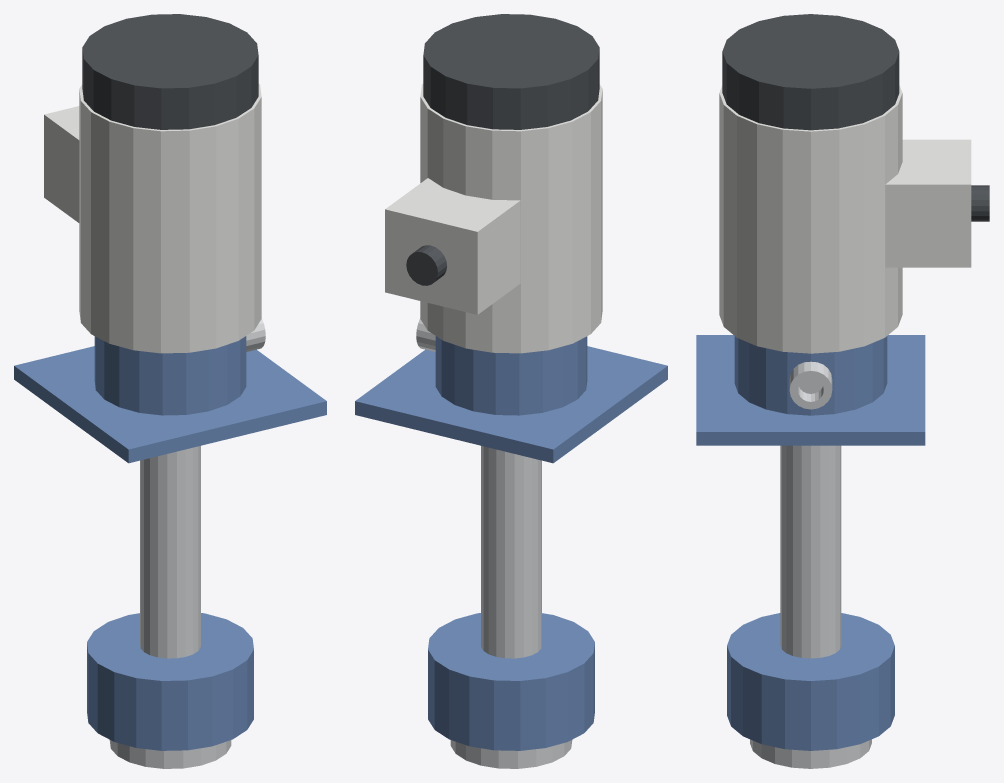
Rendered from coolant-pump.glb.
3 renders of one model, left to right at view 1: azimuth 30°, elevation 25°; view 2: azimuth 150°, elevation 25°; view 3: azimuth 270°, elevation 25°, orthographic.
Visible parts, largest first — view 1: body; view 2: body, pwr; view 3: body, port-out, pwr.
Boxes of the visible parts, bbox=[...] form: body: bbox=[14, 14, 326, 768]; body: bbox=[355, 14, 667, 768]; pwr: bbox=[406, 245, 446, 285]; body: bbox=[696, 14, 971, 768]; port-out: bbox=[789, 361, 832, 409]; pwr: bbox=[971, 185, 989, 221].
Size of what is drawn, in the model's own units: 0.15 by 0.5 by 0.192.
